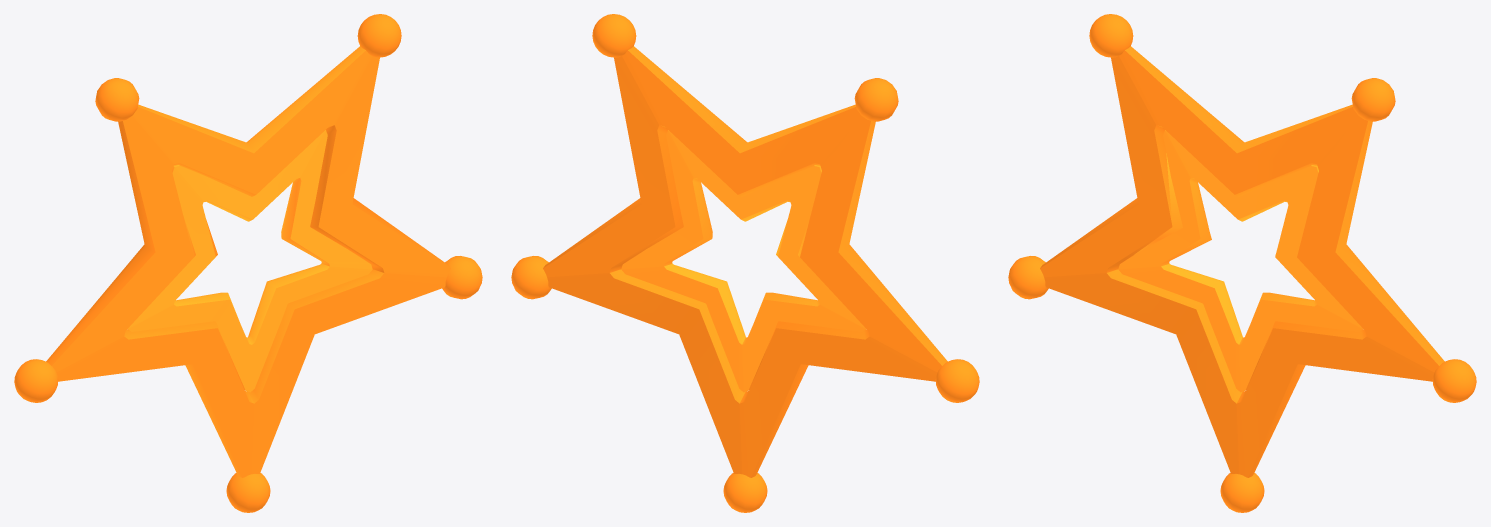
Rendered from launch-star.glb.
3 renders of one model, left to right at view 1: azimuth 30°, elevation 25°; view 2: azimuth 150°, elevation 25°; view 3: azimuth 330°, elevation 25°, orthographic.
Visible parts, largest first — view 1: gamemodel_objShape, gamemodel_objShape.001; view 2: gamemodel_objShape, gamemodel_objShape.001; view 3: gamemodel_objShape, gamemodel_objShape.001.
Part boxes in pixels (x1=…): gamemodel_objShape: x1=14, y1=14, x2=482, y2=512; gamemodel_objShape.001: x1=128, y1=130, x2=372, y2=392; gamemodel_objShape: x1=511, y1=14, x2=979, y2=512; gamemodel_objShape.001: x1=621, y1=130, x2=865, y2=392; gamemodel_objShape: x1=1008, y1=14, x2=1476, y2=512; gamemodel_objShape.001: x1=1118, y1=130, x2=1362, y2=392.
Size of the model in its own units: 48.46 by 46.36 by 4.
